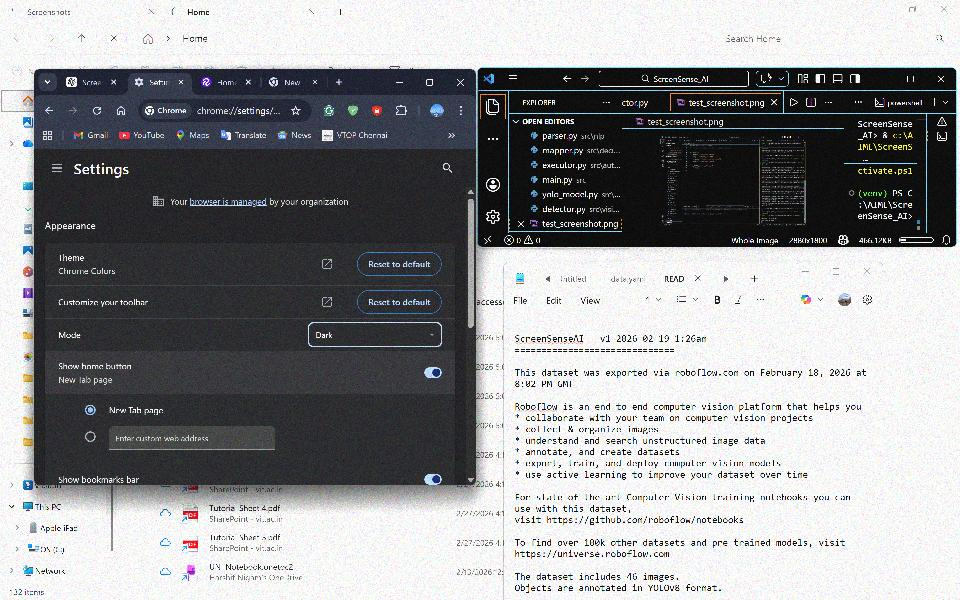close_button: (451, 72, 470, 93), (857, 264, 876, 283), (934, 2, 954, 17), (933, 70, 950, 87)
maximize_button: (420, 72, 439, 92), (826, 265, 846, 284), (901, 70, 921, 87), (903, 2, 921, 18)
minimize_button: (387, 72, 412, 93), (798, 265, 817, 283), (872, 70, 889, 87), (875, 1, 891, 18)
